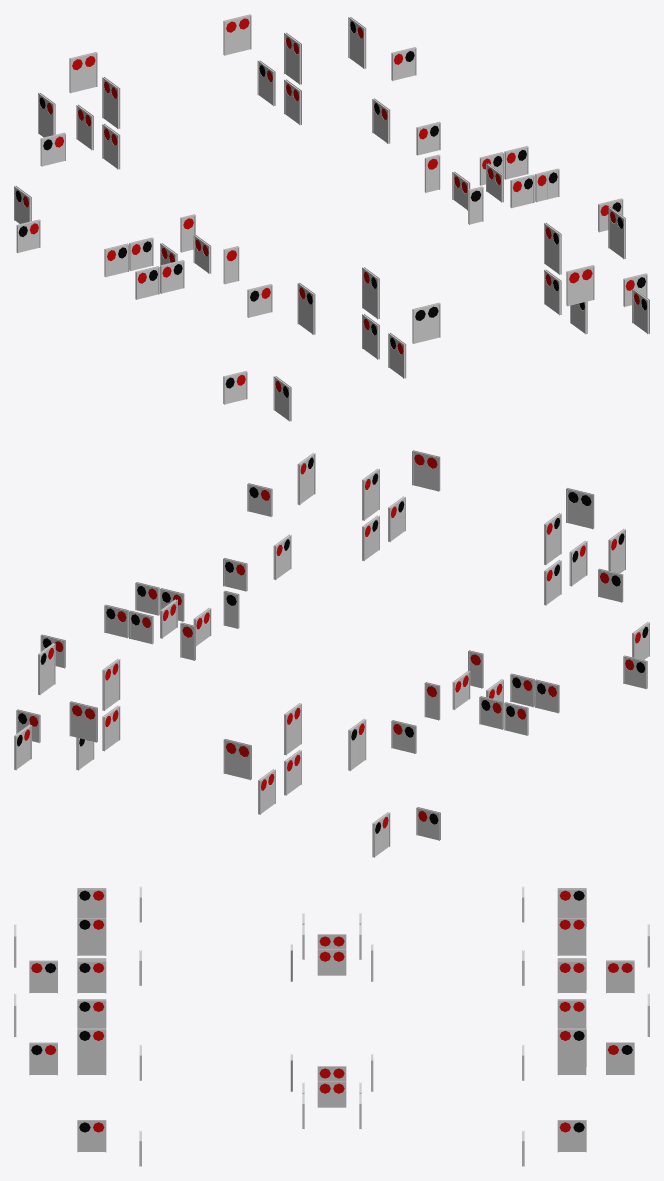
Rendered from Door.fbx.
3 renders of one model, top to bottom at view 1: azimuth 30°, elevation 25°; view 2: azimuth 150°, elevation 25°; view 3: azimuth 270°, elevation 25°, orthographic. The views are drawn at different scales.
Parts seen in each view (by area): view 1: no part large enough to name; view 2: no part large enough to name; view 3: Orj.410, Orj.411, Orj.418, Orj.419, Orj.427, Orj.435, Orj.426, Orj.434, Orj.394, Orj.364, Orj.366, Orj.368 (+9 smaller).
Boxes of the visible parts, <box> form: Orj.410: <box>558,919,572,955</box>; Orj.411: <box>572,919,585,955</box>; Orj.418: <box>91,919,104,955</box>; Orj.419: <box>78,919,91,955</box>; Orj.427: <box>572,1030,585,1066</box>; Orj.435: <box>78,1030,91,1066</box>; Orj.426: <box>559,1030,571,1066</box>; Orj.434: <box>92,1030,104,1066</box>; Orj.394: <box>558,962,572,992</box>; Orj.364: <box>607,962,620,992</box>; Orj.366: <box>607,1044,620,1074</box>; Orj.368: <box>30,1044,43,1074</box>.
Bounding box in the file's own units: 6584 × 1805 × 9264.
